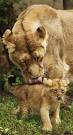lion: (1, 6, 73, 108)
